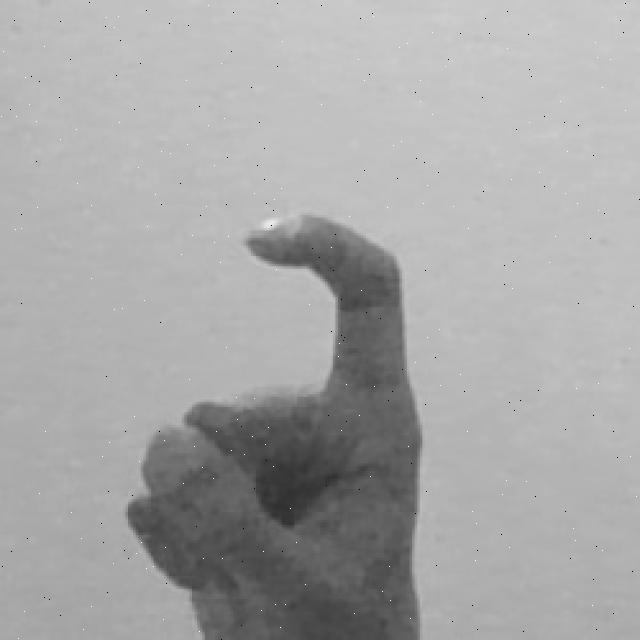X: (122, 199, 434, 640)
